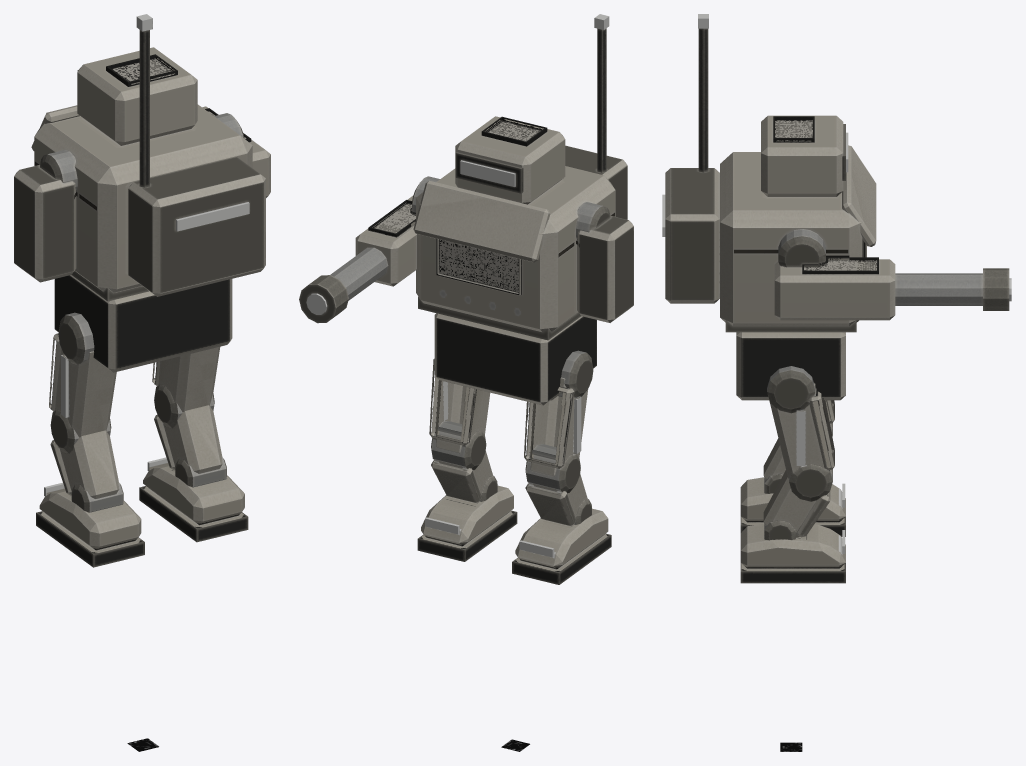
File: ord_squire.fbx
3 renders of one model, left to right at view 1: azimuth 30°, elevation 25°; view 2: azimuth 150°, elevation 25°; view 3: azimuth 270°, elevation 25°, orthographic. The views are drawn at different scales.
Visible parts, largest first — view 1: torso_bar, base_bar, thighL_bar, footR_bar, footL_bar, shinL_bar, shinR_bar, thighR_bar, torso_glow_power_bar, thighL_glow_running_bar; view 2: torso_bar, base_bar, thighL_bar, footR_bar, footL_bar, thighR_bar, shinR_bar, shinL_bar, torso_glow_head_bar; view 3: torso_bar, base_bar, thighR_bar, footR_bar, shinR_bar, footL_bar, shinL_bar.
Part boxes in pixels (left/top/right/bottom): torso_bar: left=14, top=30, right=270, bottom=301; base_bar: left=54, top=275, right=232, bottom=372; thighL_bar: left=49, top=312, right=116, bottom=453; footR_bar: left=139, top=464, right=248, bottom=542; footL_bar: left=36, top=489, right=144, bottom=567; shinL_bar: left=50, top=430, right=123, bottom=512; shinR_bar: left=154, top=405, right=226, bottom=487; thighR_bar: left=152, top=347, right=220, bottom=428; torso_glow_power_bar: left=176, top=202, right=249, bottom=231; thighL_glow_running_bar: left=61, top=354, right=68, bottom=417; torso_bar: left=299, top=28, right=633, bottom=340; base_bar: left=434, top=313, right=596, bottom=405; thighL_bar: left=524, top=350, right=593, bottom=493; footR_bar: left=417, top=485, right=517, bottom=561; footL_bar: left=512, top=508, right=611, bottom=584; thighR_bar: left=429, top=358, right=490, bottom=469; shinR_bar: left=431, top=451, right=497, bottom=502; shinL_bar: left=525, top=473, right=591, bottom=525; torso_glow_head_bar: left=460, top=160, right=515, bottom=186; torso_bar: left=665, top=28, right=1009, bottom=332; base_bar: left=736, top=332, right=845, bottom=400; thighR_bar: left=767, top=366, right=834, bottom=501; footR_bar: left=740, top=523, right=845, bottom=583; shinR_bar: left=763, top=470, right=830, bottom=540; footL_bar: left=740, top=477, right=845, bottom=536; shinL_bar: left=763, top=438, right=785, bottom=493.
Size of the model in its own units: 232 by 715 by 318.
2 materials, 2 textured.
